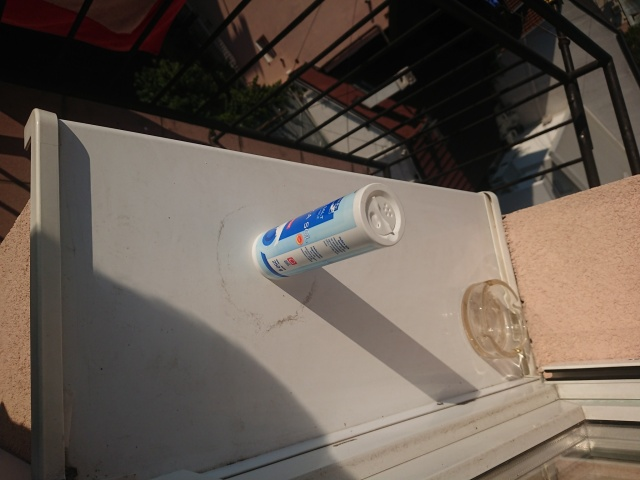Solana Pag Fine Sea Salt 250g: (249, 181, 407, 283)
